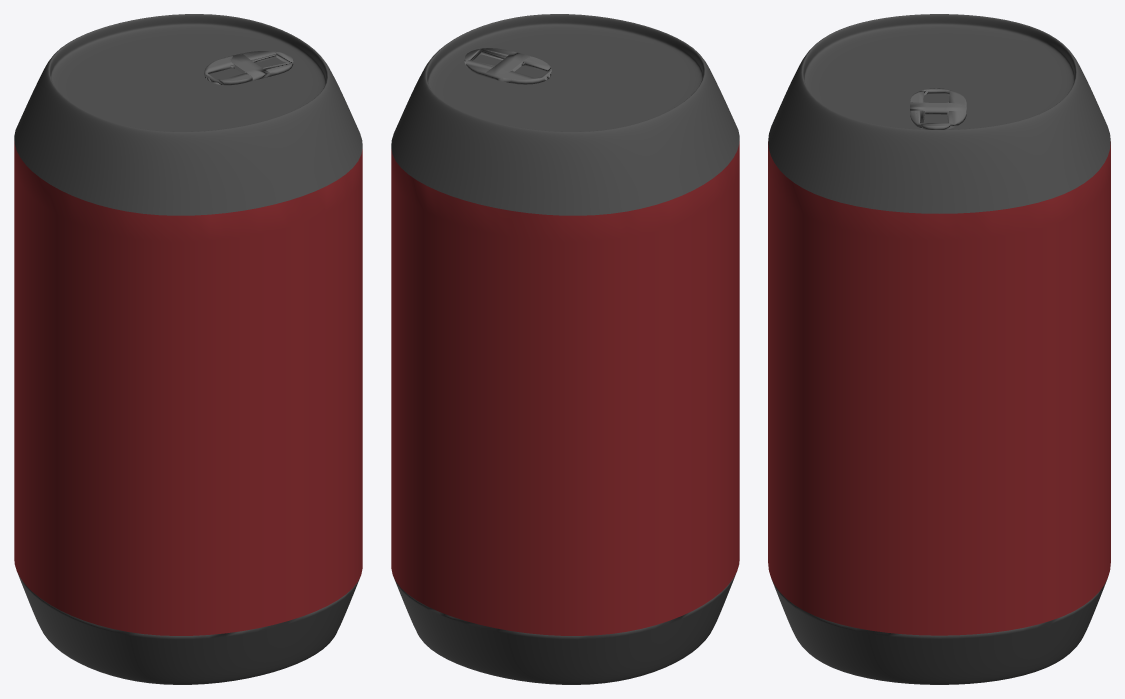
File: lata.glb
The picture shows the model from 3 angles, left to right: view 1: azimuth 30°, elevation 25°; view 2: azimuth 150°, elevation 25°; view 3: azimuth 270°, elevation 25°; orthographic projection.
Parts seen in each view (by area): view 1: Cube, Circle; view 2: Cube, Circle; view 3: Cube, Circle.
Part boxes in pixels (x1,y1,x2,y2): Cube: [14, 14, 362, 684]; Circle: [204, 51, 293, 85]; Cube: [391, 14, 739, 684]; Circle: [464, 48, 551, 84]; Cube: [768, 14, 1110, 684]; Circle: [910, 88, 966, 129].
Size of the model in its own units: 1.83 by 3.25 by 1.83.
